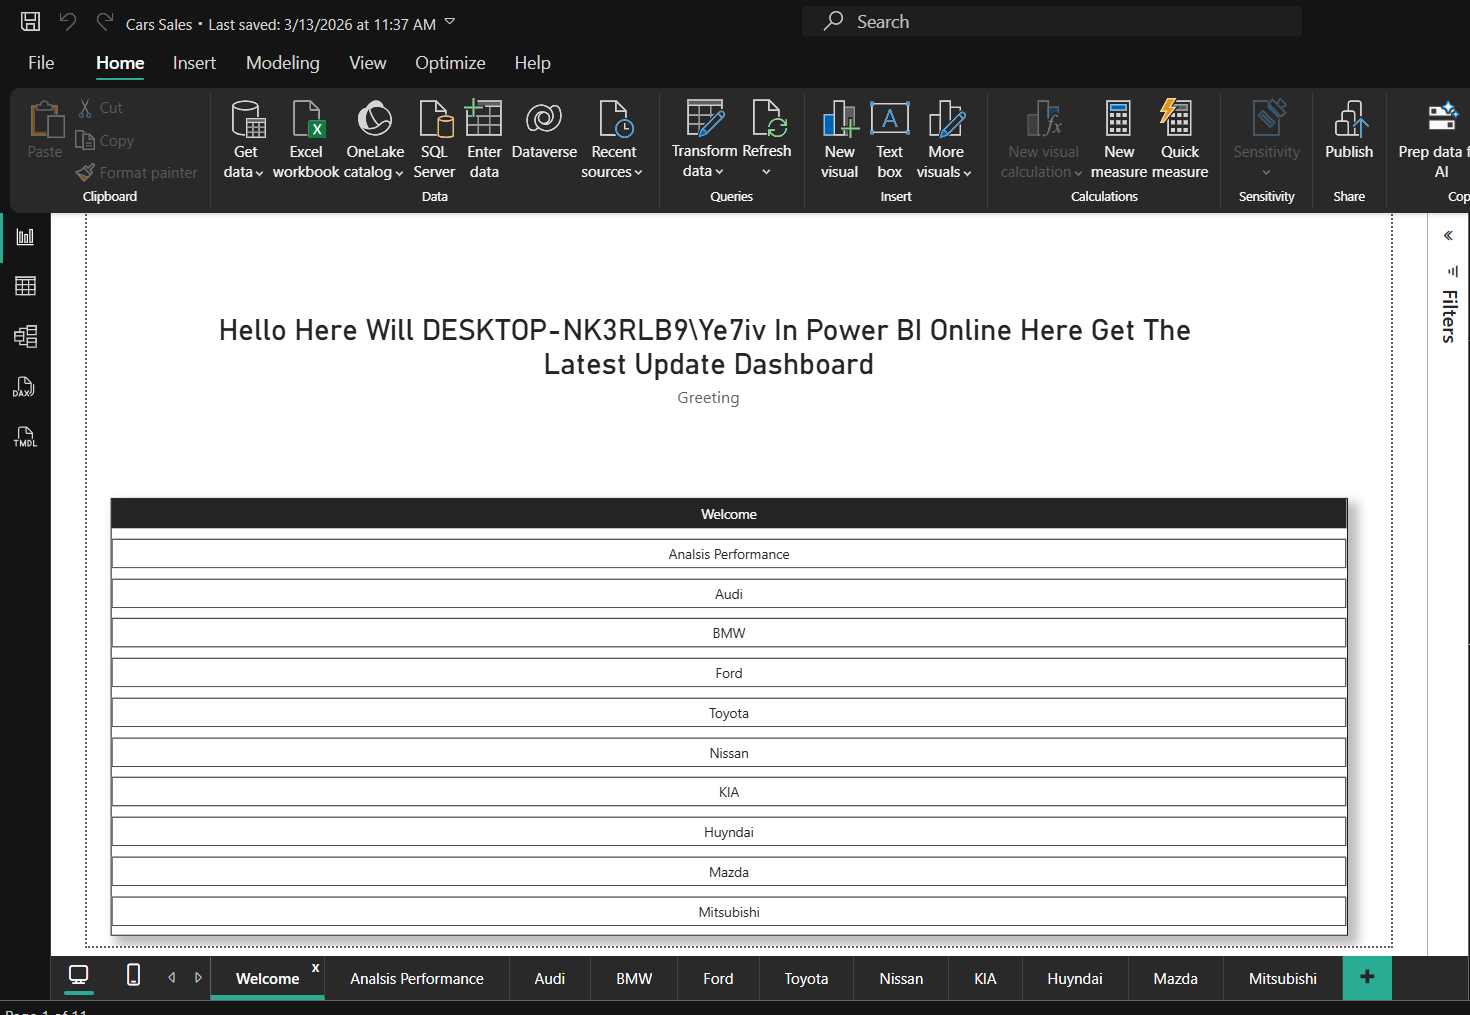

What the dashboard file says about the page in this screenshot:
{"tool":"powerbi","page":{"name":"Welcome","canvas":[1280,720],"ordinal":0},"visuals":[{"type":"card","fields":{"Values":["CAR SALES GLOBALY.Greeting"]},"box":[114.1,0,992.6,279.8],"z":0},{"type":"pageNavigator","box":[23.3,279.9,1214.4,429.5],"z":1000}]}

Visuals, with their boxes on the page's 1280x720 design canvas (x1, y1, x2, y2). These are canvas units, not pixel positions in the 1470x1015 screenshot, which may show the page scaled, cropped or inside an application window:
card - CAR SALES GLOBALY.Greeting: (114, 0, 1107, 280)
pageNavigator: (23, 280, 1238, 709)
